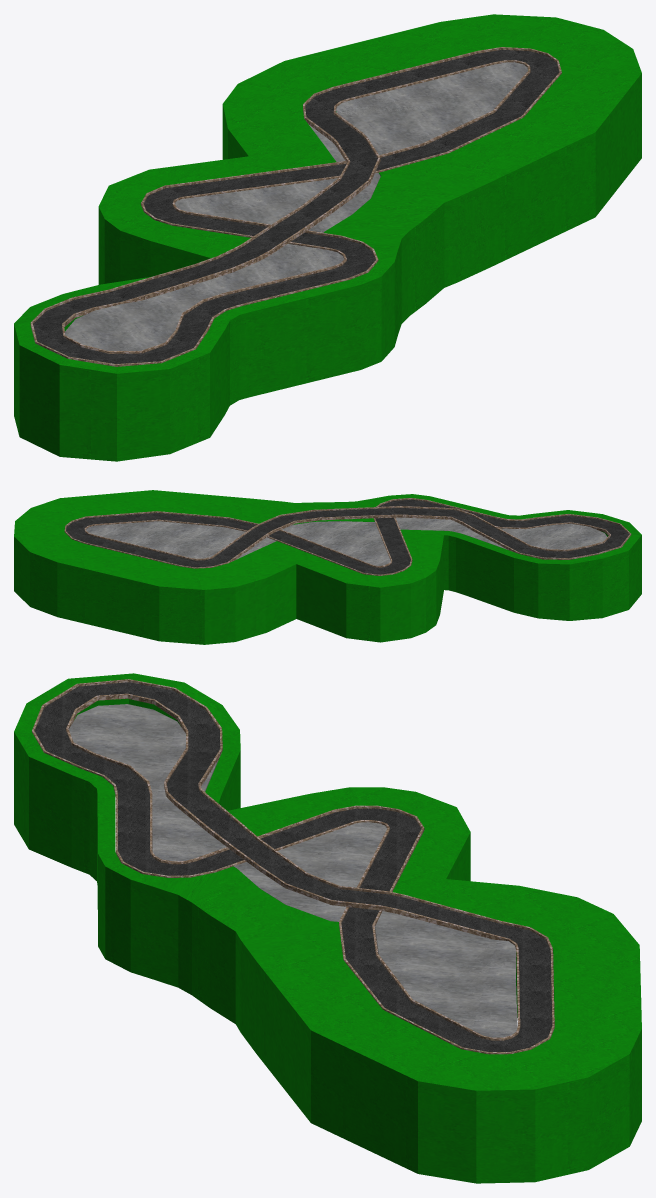
File: thrill.fbx
3 renders of one model, top to bottom at view 1: azimuth 30°, elevation 25°; view 2: azimuth 150°, elevation 25°; view 3: azimuth 270°, elevation 25°, orthographic. The views are drawn at different scales.
Parts seen in each view (by area): view 1: track_terrain2, track, track_terrain; view 2: track_terrain2, track, track_terrain; view 3: track_terrain2, track, track_terrain.
Boxes of the visible parts, x1=… form: track_terrain2: x1=14, y1=14, x2=641, y2=461; track: x1=30, y1=47, x2=561, y2=366; track_terrain: x1=65, y1=62, x2=527, y2=350; track_terrain2: x1=14, y1=490, x2=641, y2=644; track: x1=64, y1=498, x2=631, y2=575; track_terrain: x1=86, y1=517, x2=606, y2=565; track_terrain2: x1=14, y1=673, x2=641, y2=1183; track: x1=32, y1=679, x2=554, y2=1054; track_terrain: x1=68, y1=704, x2=517, y2=1037.
Size of the model in its own units: 42307 by 5630 by 27393.
